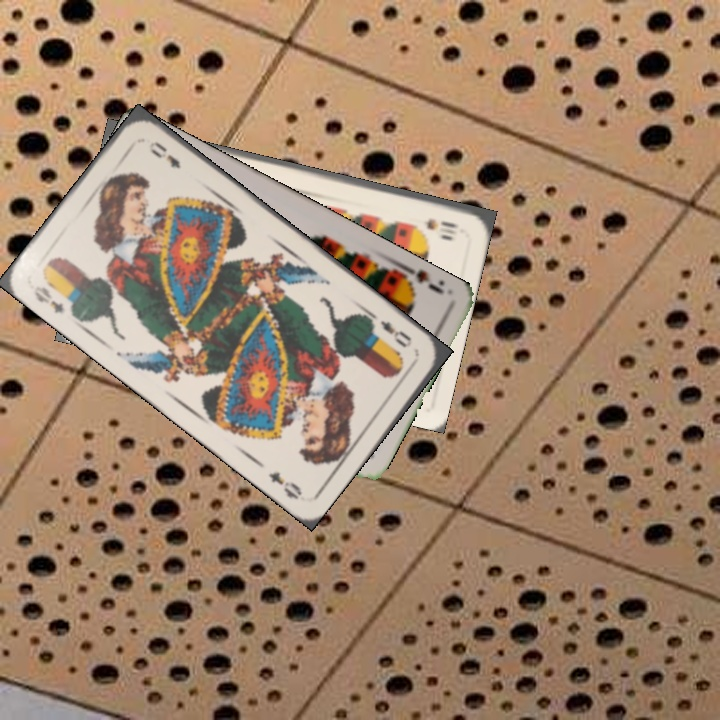EO: (376, 316, 415, 350), (29, 282, 66, 317)
S10: (420, 214, 461, 236)
S9: (395, 260, 447, 297)
